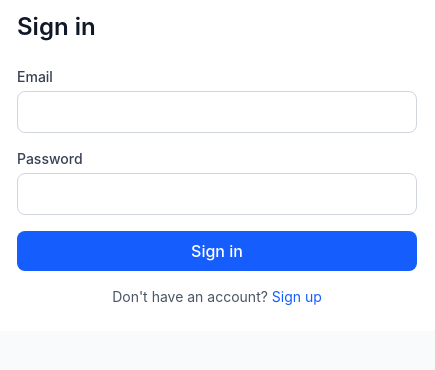
Scenario: LoginPage › shows email required error when email is empty and form is submitted
This screenshot has width=435, height=370.
Click the button "Sign in".
click(217, 251)  # box [17,231,417,271]
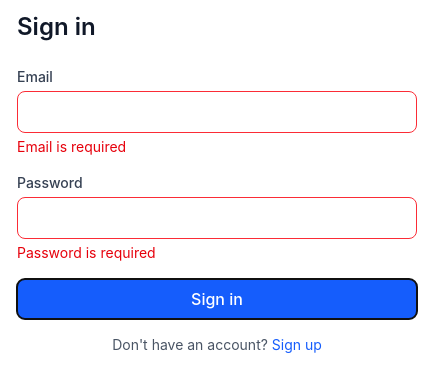
Check: the text "Email is required" is shown, box [17,138,126,155]
